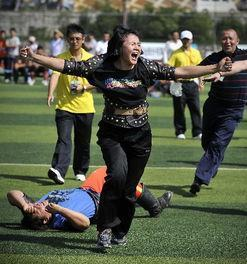Fall-Detected: (6, 159, 179, 235)
